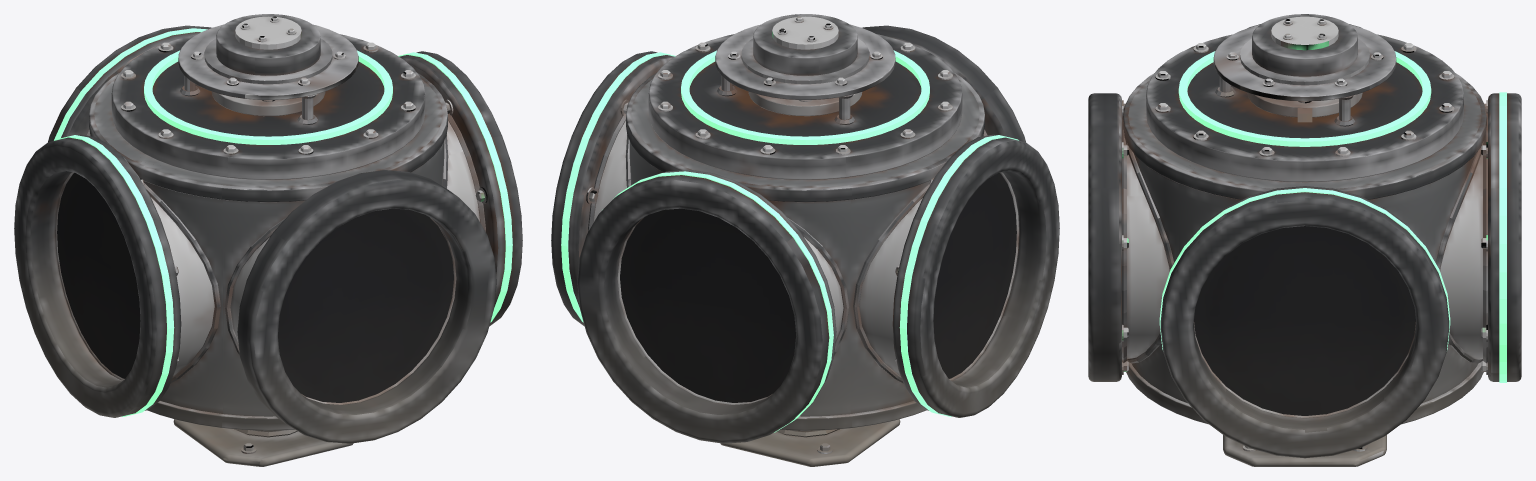
File: SM_Splitter.glb
3 renders of one model, left to right at view 1: azimuth 30°, elevation 25°; view 2: azimuth 150°, elevation 25°; view 3: azimuth 270°, elevation 25°, orthographic.
Visible parts, largest first — view 1: SM_Splitter, SM_Splitter_Rotor; view 2: SM_Splitter, SM_Splitter_Rotor; view 3: SM_Splitter, SM_Splitter_Rotor.
Part boxes in pixels (<box>): SM_Splitter: <box>14,14,522,466</box>; SM_Splitter_Rotor: <box>211,91,325,116</box>; SM_Splitter: <box>551,14,1059,466</box>; SM_Splitter_Rotor: <box>748,92,862,116</box>; SM_Splitter: <box>1088,14,1521,466</box>; SM_Splitter_Rotor: <box>1247,92,1362,122</box>.
Bounding box in the file's own units: 0.9 × 0.932 × 0.9.
Materials: 7 (6 with a texture image).
